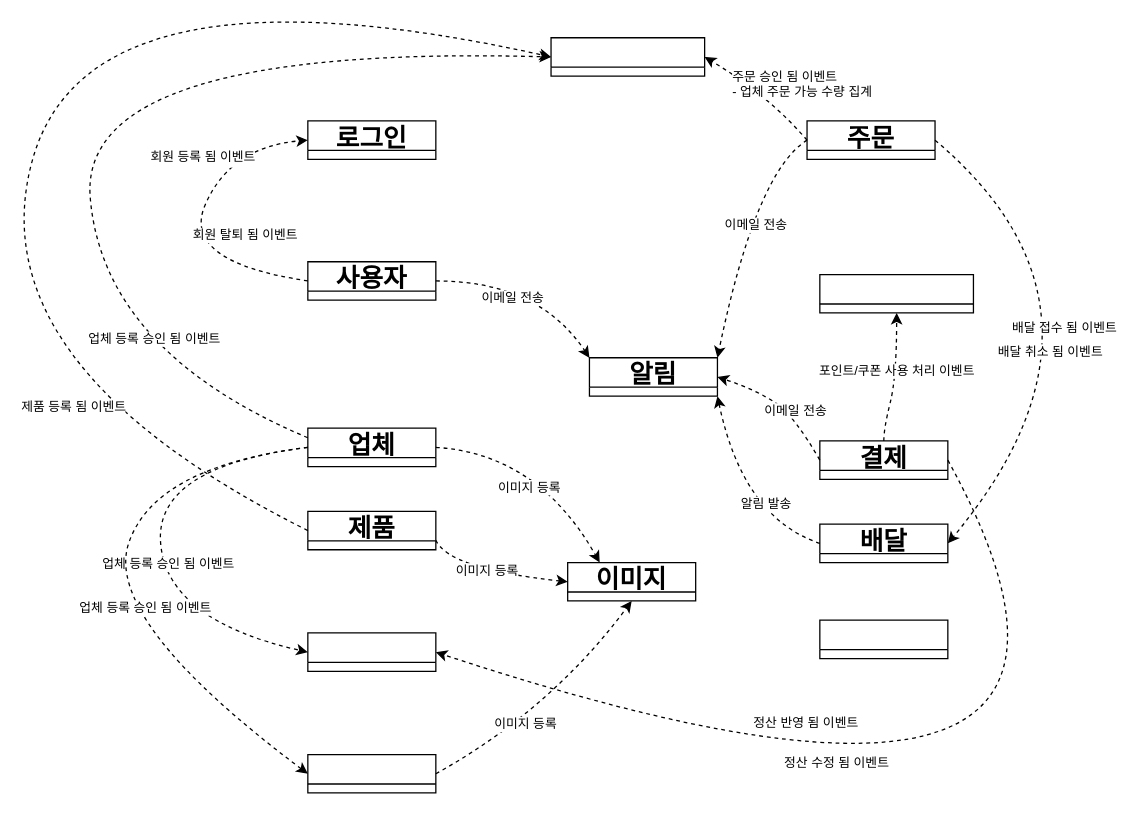
Some shapes in this 1139 by 817 pixel diagram are drawn without their labels. Each missing label, with the centre of its shape:
배달지: [883,639]
정산: [371,651]
카탈로그: [627,56]
평가: [371,773]
프로모션: [896,293]
